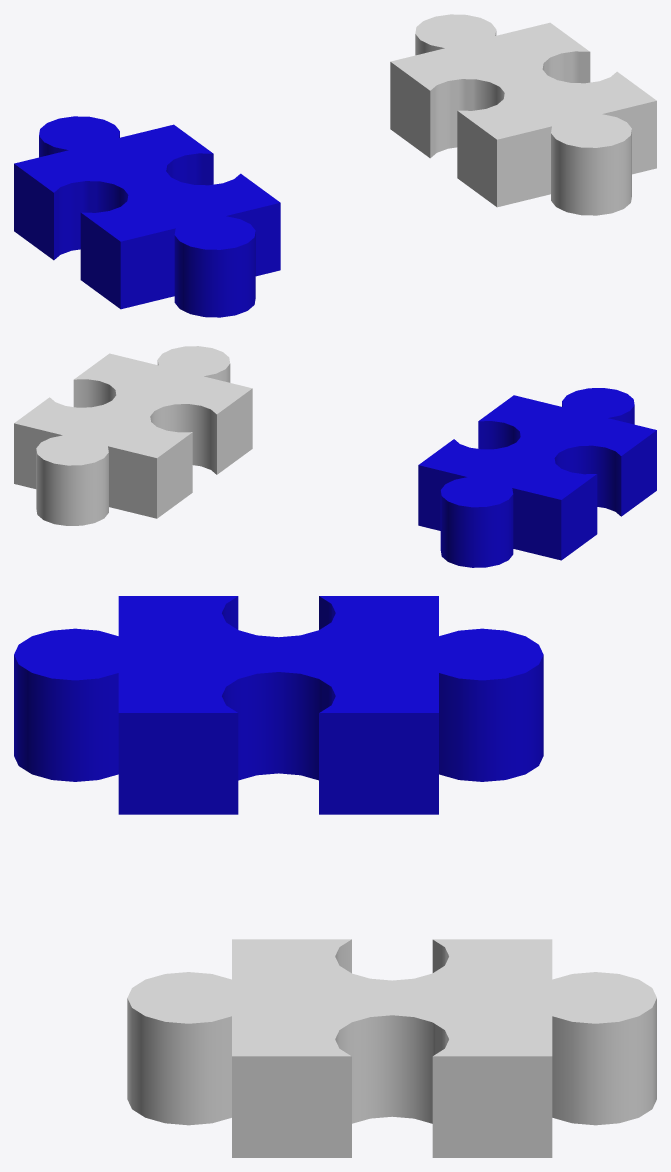
The model's file is Piezas puzzle sueltas.fbx.
3 views of the same model, one above another, from view 1: azimuth 30°, elevation 25°; view 2: azimuth 150°, elevation 25°; view 3: azimuth 270°, elevation 25° (orthographic). The views are drawn at different scales.
Visible parts, largest first — view 1: Cube.029, Cube.037; view 2: Cube.029, Cube.037; view 3: Cube.029, Cube.037.
Part boxes in pixels (left/top/right/bottom): Cube.029: left=390, top=14, right=656, bottom=215; Cube.037: left=14, top=116, right=280, bottom=317; Cube.029: left=14, top=346, right=252, bottom=525; Cube.037: left=418, top=388, right=656, bottom=567; Cube.029: left=127, top=939, right=656, bottom=1157; Cube.037: left=14, top=596, right=543, bottom=814.
Size of the model in its own units: 2247 by 353 by 1453.
